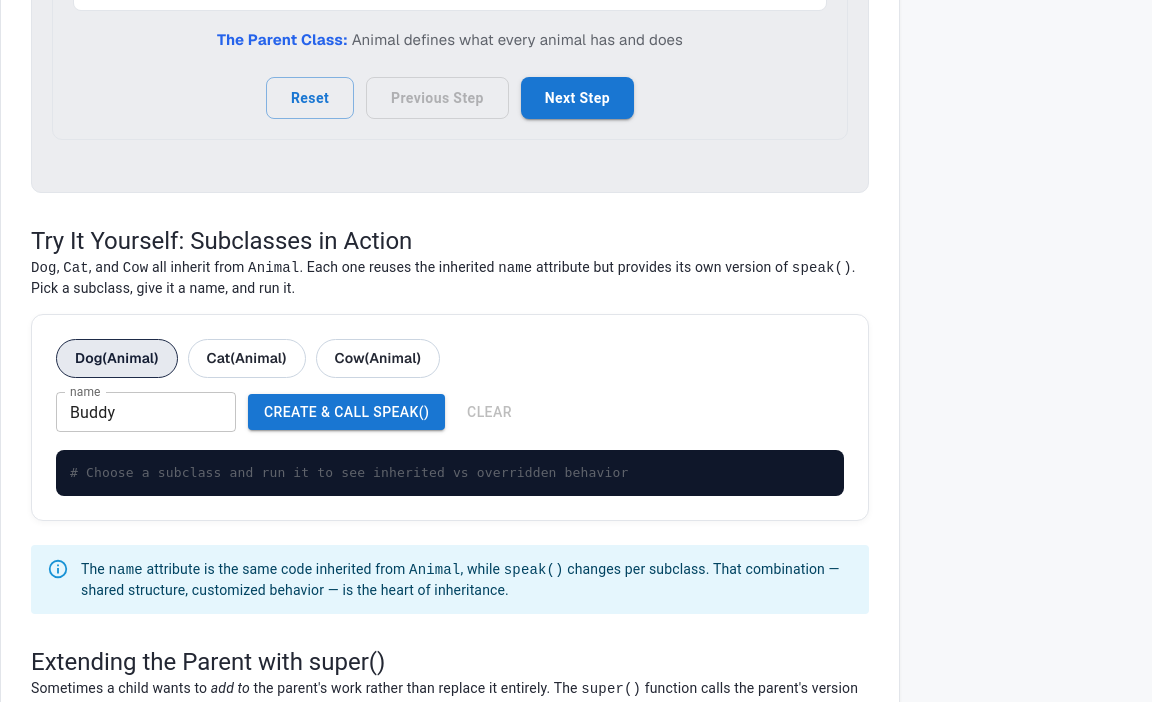
Test: InheritanceConcept › switches to the Cat subclass and logs its own speak()
The width and height of the screenshot is (1152, 702).
(page scrolled)
Click the button "Cat(Animal)" at (246, 359), box top-left (188, 339), bottom-right (306, 378)
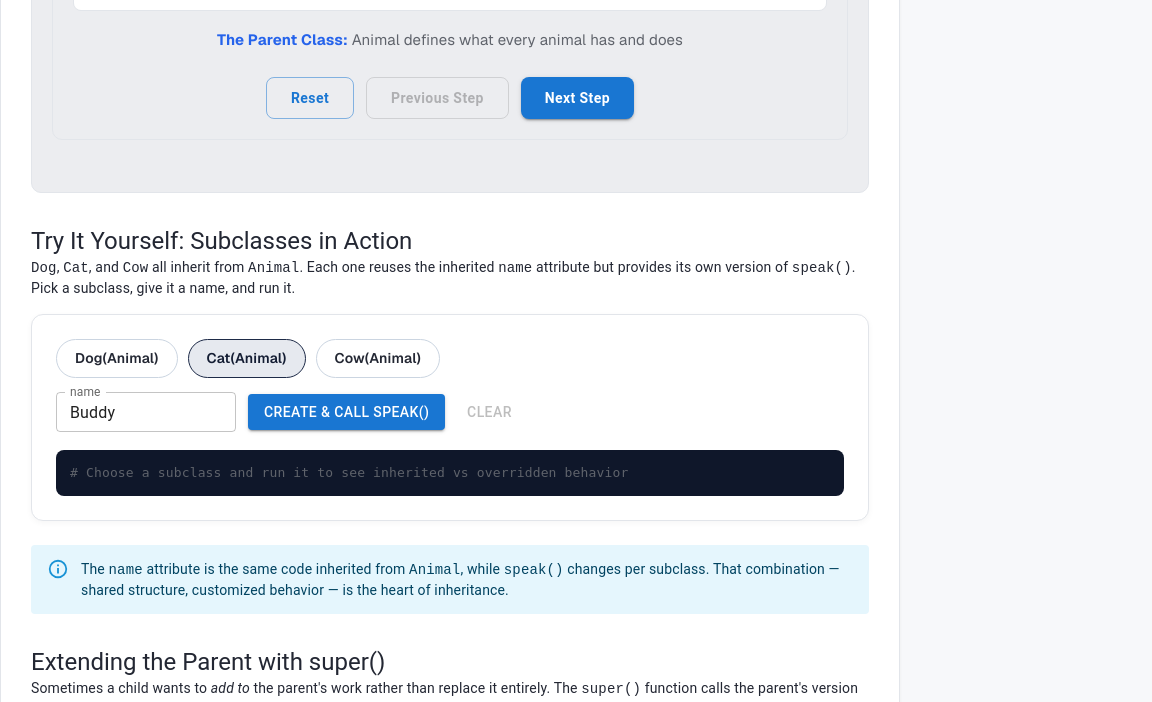
Click the button "Create & call speak()" at (347, 412), box top-left (248, 394), bottom-right (446, 430)
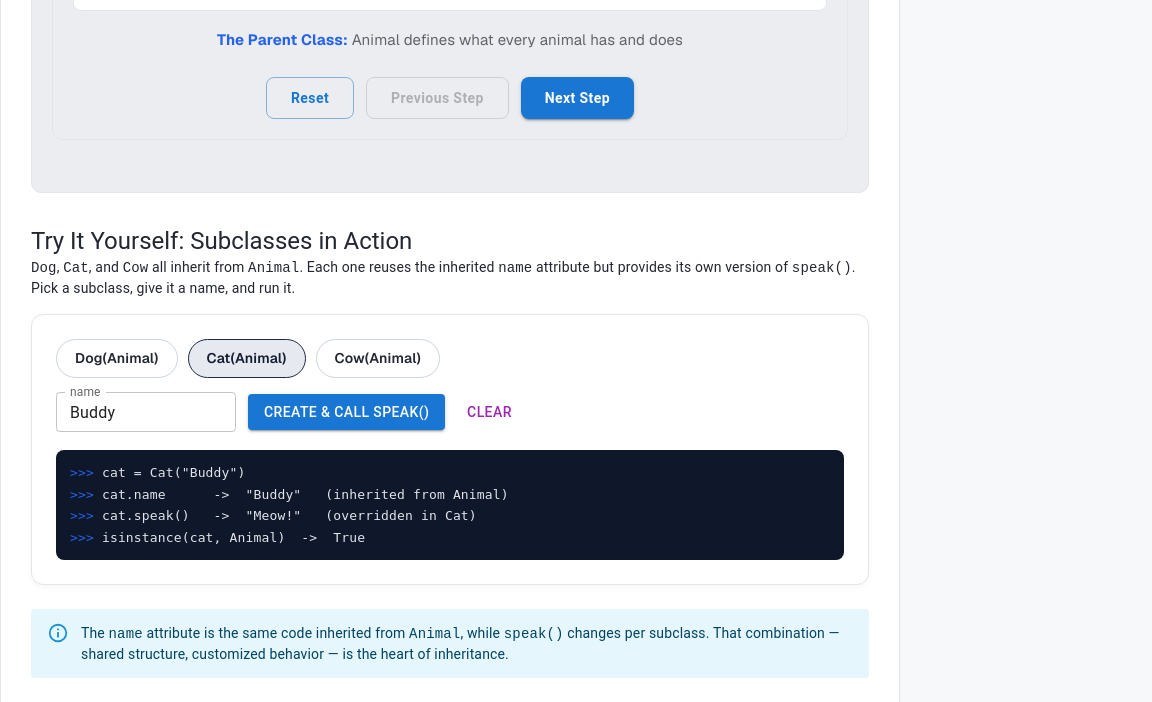
Check: the text ">>> cat.speak() -> \"Meow!\" (overridden in Cat)" is shown, box top-left (70, 508), bottom-right (477, 523)
